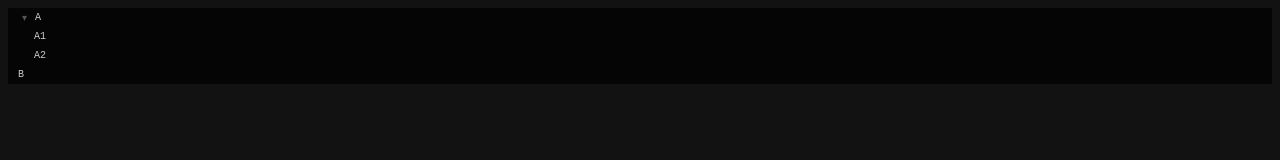
Scenario: TreeNav › collapse button hides children
The image size is (1280, 160).
Expected: the button "A1" is shown, [34,31,1264,42]
Click the button named "Collapse": click(24, 18) [18,12,31,23]
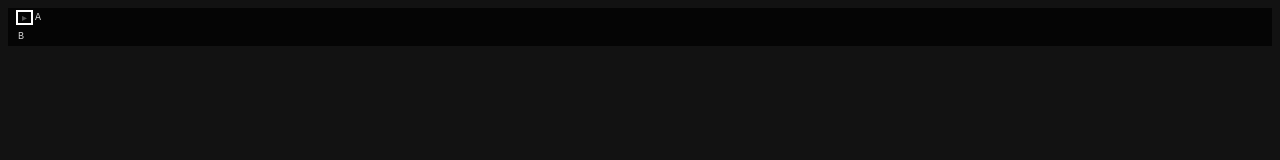
Result: the button "A1" is gone
